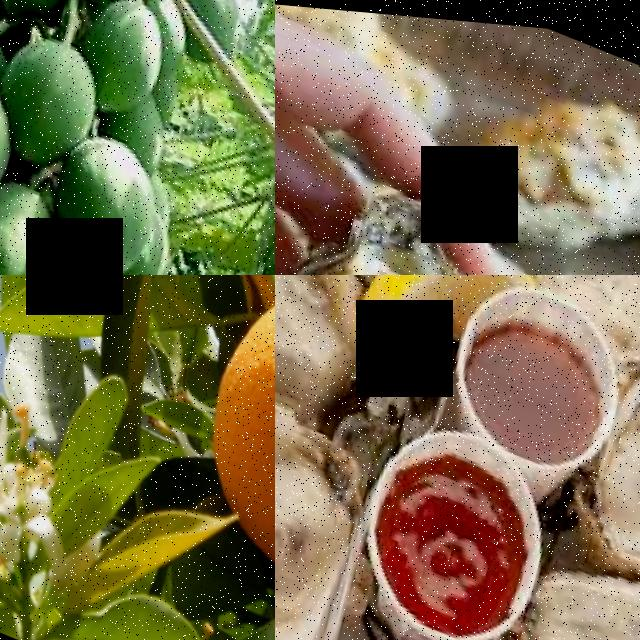orange: (149, 275, 275, 615)
oysters: (275, 350, 382, 640), (275, 191, 598, 275), (573, 298, 640, 616), (485, 516, 640, 640), (275, 275, 393, 427)
pawpaw: (27, 107, 177, 275), (0, 17, 104, 168), (66, 0, 173, 117), (0, 155, 70, 275), (247, 222, 275, 275), (211, 255, 268, 275)
